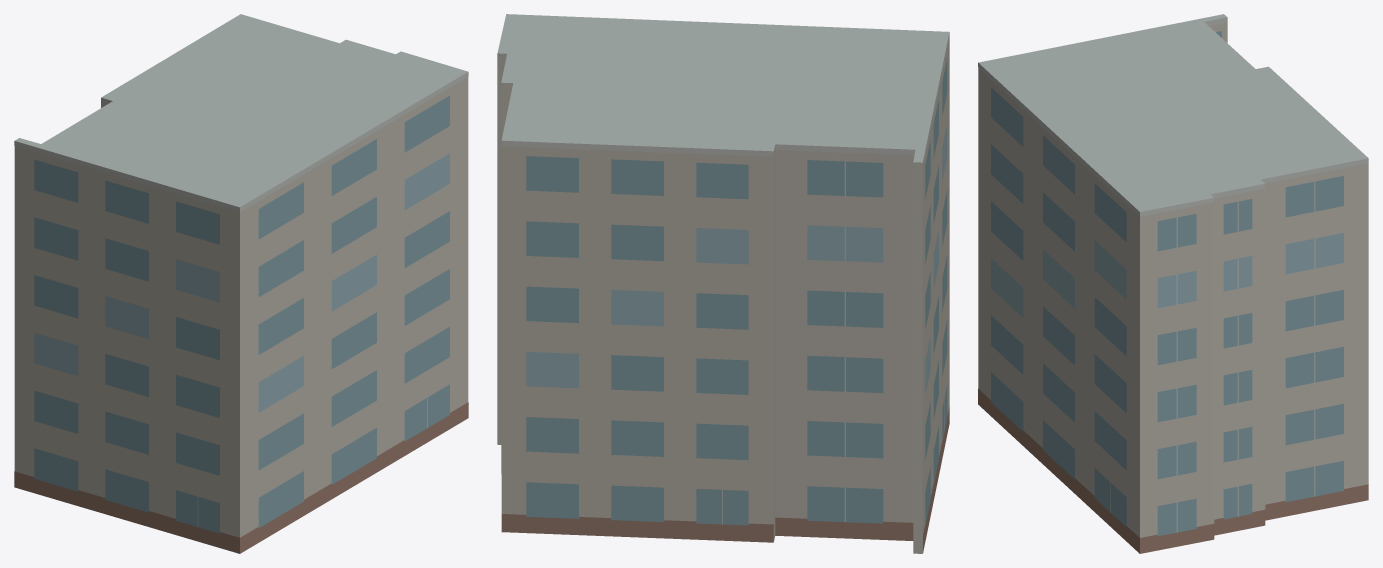
Rendered from survey-upis-32899575.glb.
3 views of the same model, side by side, from view 1: azimuth 30°, elevation 25°; view 2: azimuth 150°, elevation 25°; view 3: azimuth 270°, elevation 25° (orthographic). The views are drawn at different scales.
Visible parts, largest first — view 1: survey-upis-32899575.tmp; view 2: survey-upis-32899575.tmp; view 3: survey-upis-32899575.tmp.
Boxes of the visible parts, box(x1,y1,x2,y2) form: survey-upis-32899575.tmp: box(14, 14, 468, 553); survey-upis-32899575.tmp: box(497, 14, 949, 553); survey-upis-32899575.tmp: box(978, 14, 1368, 553).
Bounding box in the file's own units: 21.25 × 17.1 × 17.71.
